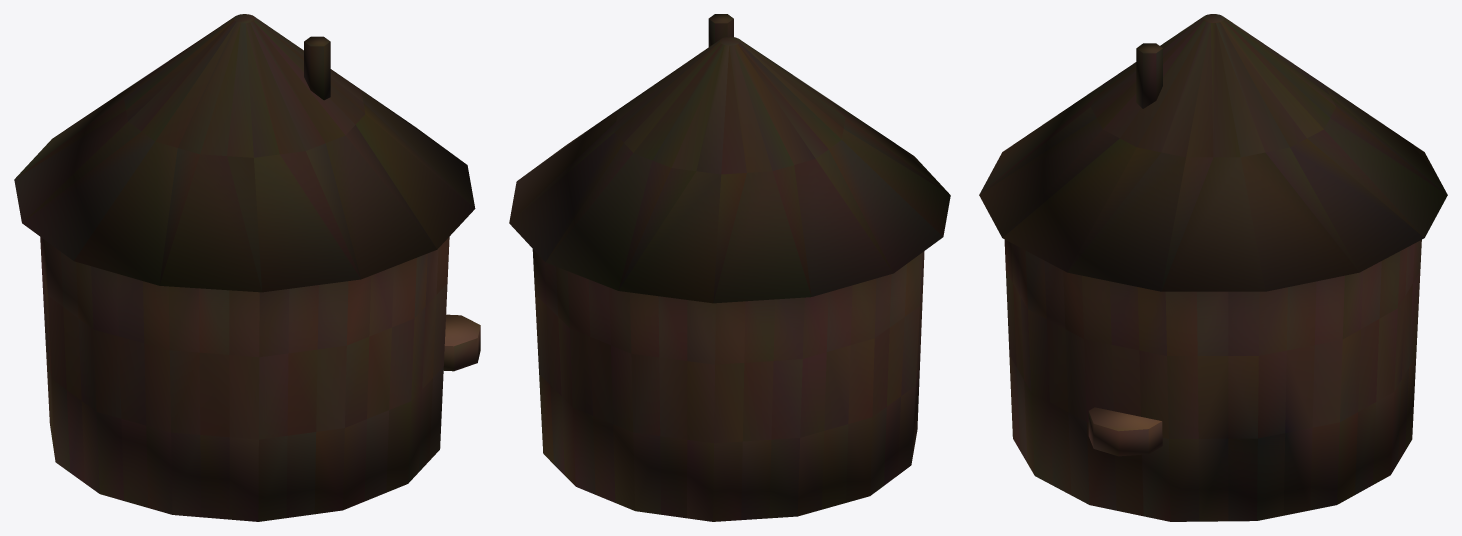
Rendered from structure_bk_foret_broceliande_0000.glb.
3 views of the same model, side by side, from view 1: azimuth 30°, elevation 25°; view 2: azimuth 150°, elevation 25°; view 3: azimuth 270°, elevation 25° (orthographic). The views are drawn at different scales.
Parts seen in each view (by area): view 1: structure_bk_000; view 2: structure_bk_000; view 3: structure_bk_000.
Boxes of the visible parts, x1,y1,x2,y2 form: structure_bk_000: (14,14,480,521); structure_bk_000: (509,14,950,521); structure_bk_000: (979,14,1447,521).
Size of the model in its own units: 2.06 by 2.09 by 2.11.
